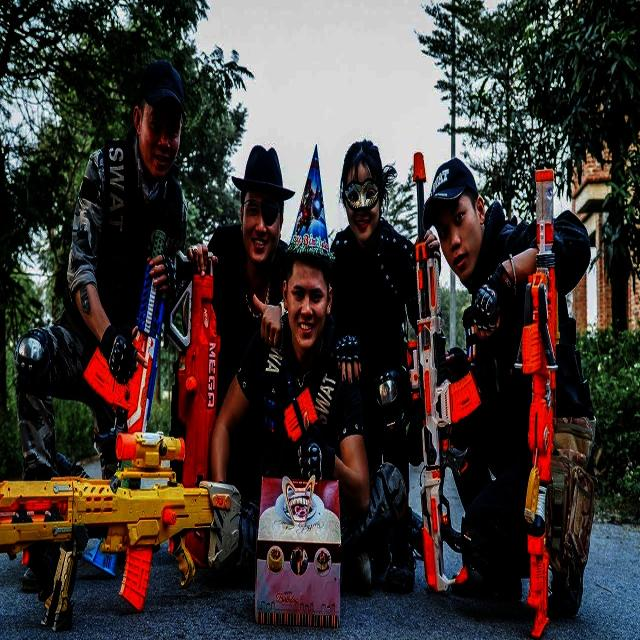Nerf gun: (3, 418, 243, 616), (396, 138, 486, 602), (513, 160, 568, 638), (82, 158, 160, 450), (168, 245, 231, 569)
